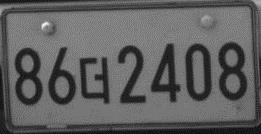0: (182, 43, 212, 101)
2: (115, 44, 148, 104)
4: (148, 42, 183, 104)
6: (46, 44, 78, 107)
8: (216, 39, 248, 101), (14, 47, 43, 105)
더: (77, 55, 111, 105)
